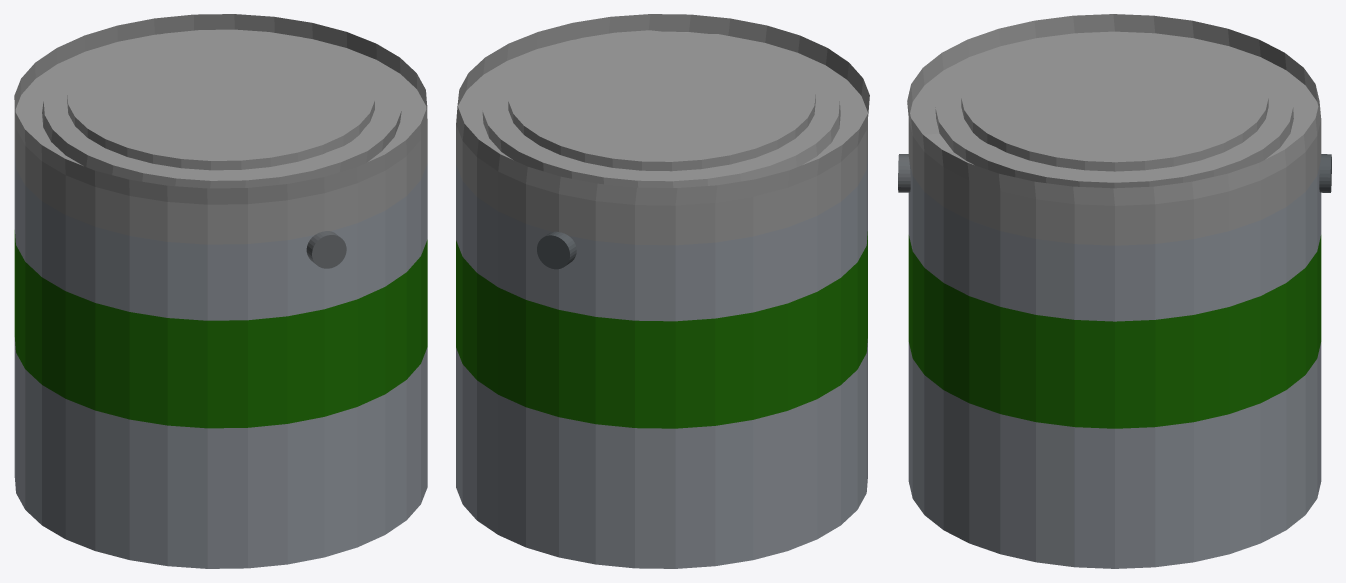
Rendered from paintcan.fbx.
The picture shows the model from 3 angles, left to right: view 1: azimuth 30°, elevation 25°; view 2: azimuth 150°, elevation 25°; view 3: azimuth 270°, elevation 25°; orthographic projection.
Visible parts, largest first — view 1: Cylinder, Cylinder.001, Cylinder.002, Cylinder.004; view 2: Cylinder, Cylinder.001, Cylinder.002, Cylinder.003; view 3: Cylinder, Cylinder.001, Cylinder.002.
Boxes of the visible parts, x1=… form: Cylinder: x1=14, y1=154, x2=427, y2=568; Cylinder.001: x1=14, y1=14, x2=427, y2=244; Cylinder.002: x1=14, y1=230, x2=427, y2=428; Cylinder.004: x1=306, y1=231, x2=346, y2=268; Cylinder: x1=456, y1=155, x2=867, y2=568; Cylinder.001: x1=456, y1=14, x2=869, y2=245; Cylinder.002: x1=456, y1=231, x2=867, y2=428; Cylinder.003: x1=537, y1=231, x2=576, y2=269; Cylinder: x1=908, y1=163, x2=1321, y2=568; Cylinder.001: x1=907, y1=14, x2=1321, y2=245; Cylinder.002: x1=908, y1=235, x2=1321, y2=428.
Bounding box in the file's own units: 201 × 206 × 210.
